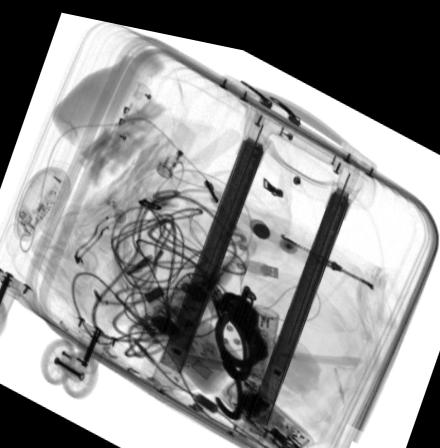Baton: (236, 291, 280, 418)
HandCuffs: (212, 276, 267, 410)
Lighter: (155, 111, 197, 177)
